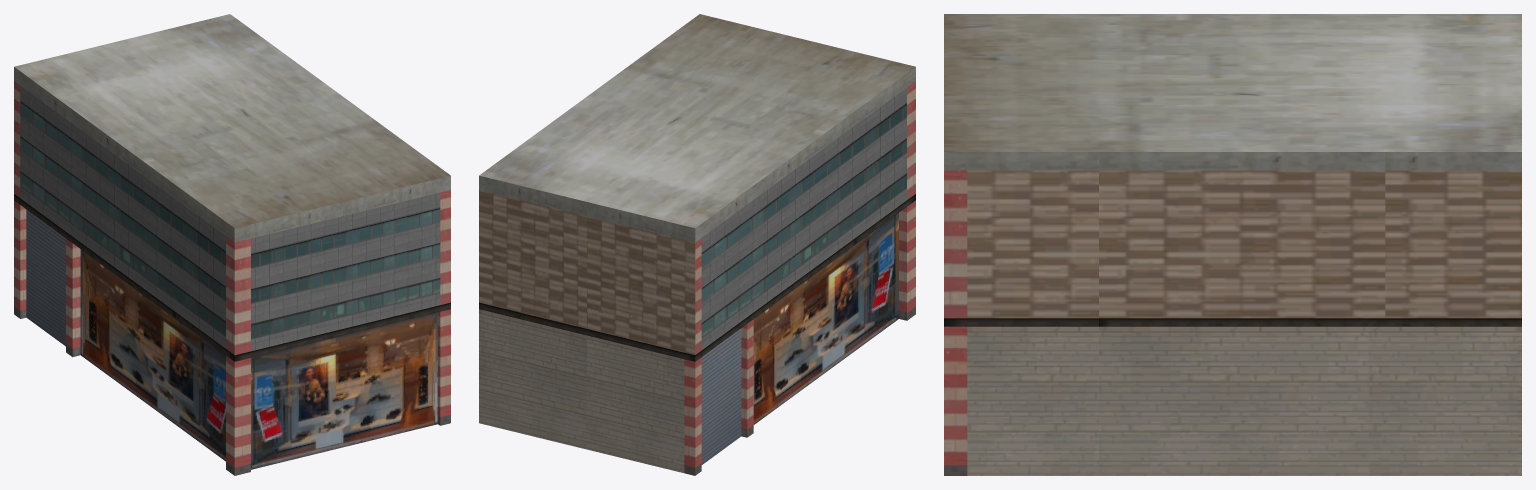
File: Pizza_Delivery house32_15.fbx
3 renders of one model, left to right at view 1: azimuth 30°, elevation 25°; view 2: azimuth 150°, elevation 25°; view 3: azimuth 270°, elevation 25°, orthographic. The views are drawn at different scales.
Visible parts, largest first — view 1: Pizza_Delivery:Pizza_Delivery:house32_15; view 2: Pizza_Delivery:Pizza_Delivery:house32_15; view 3: Pizza_Delivery:Pizza_Delivery:house32_15.
Boxes of the visible parts, <box> form: Pizza_Delivery:Pizza_Delivery:house32_15: <box>14,14,450,475</box>; Pizza_Delivery:Pizza_Delivery:house32_15: <box>479,14,915,475</box>; Pizza_Delivery:Pizza_Delivery:house32_15: <box>944,14,1521,475</box>.
Size of the model in its own units: 9.83 by 10.76 by 17.39.
